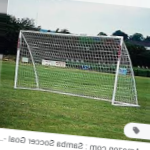goals: (11, 27, 142, 110)
